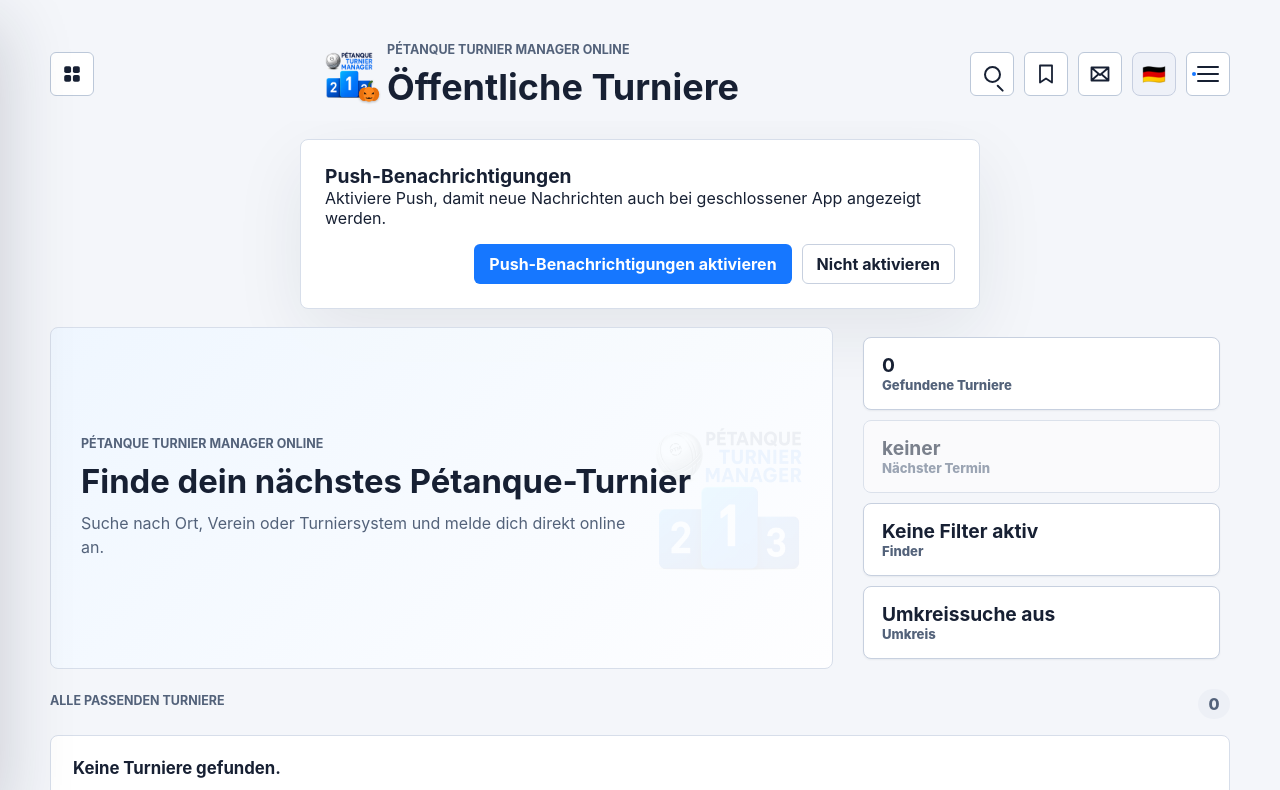
Hamburger-Menü behält den Bereich › zeigt auf „Mein Profil“ von der Startseite das Turniere-Menü mit der Turnierverwaltung
The width and height of the screenshot is (1280, 790).
Click the button named "Menü öffnen".
click(1208, 74)  # box [1186,52,1230,96]
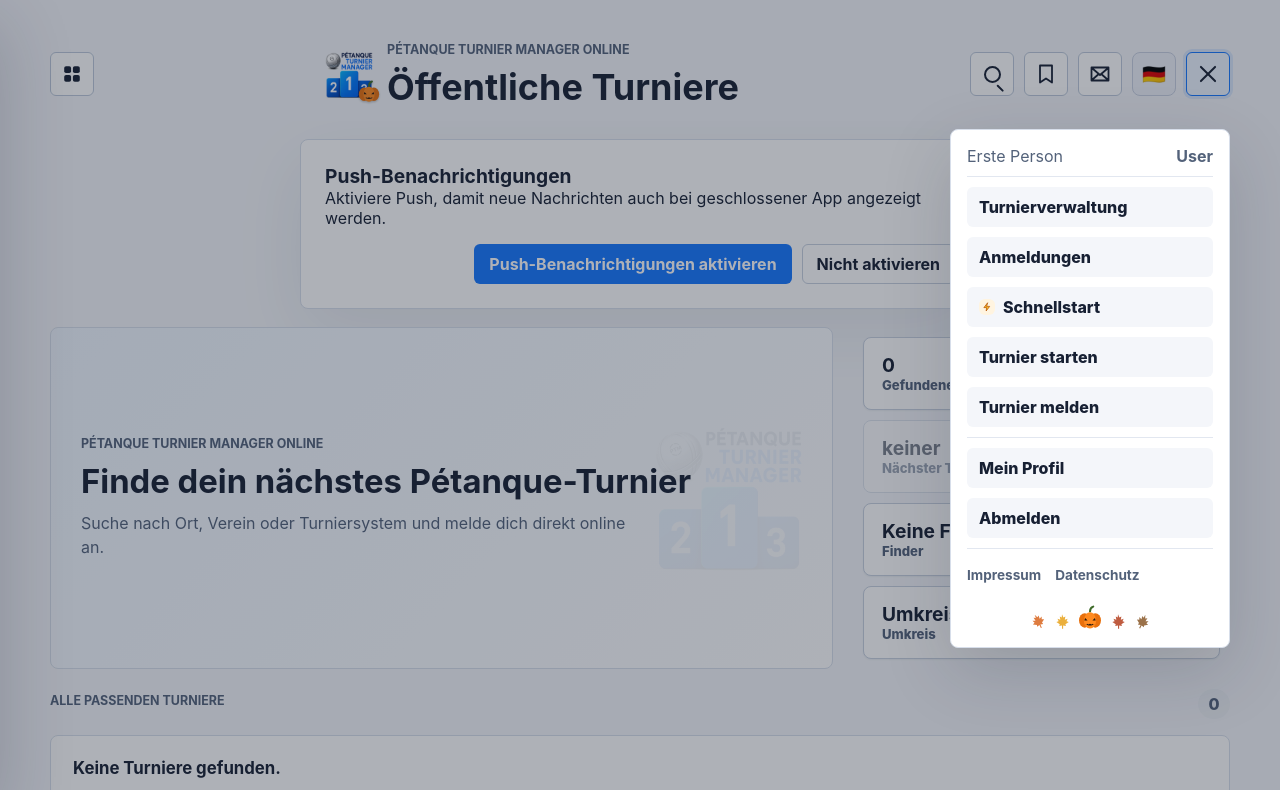
Click the button "Mein Profil".
click(1090, 468)  # box [967,448,1213,488]
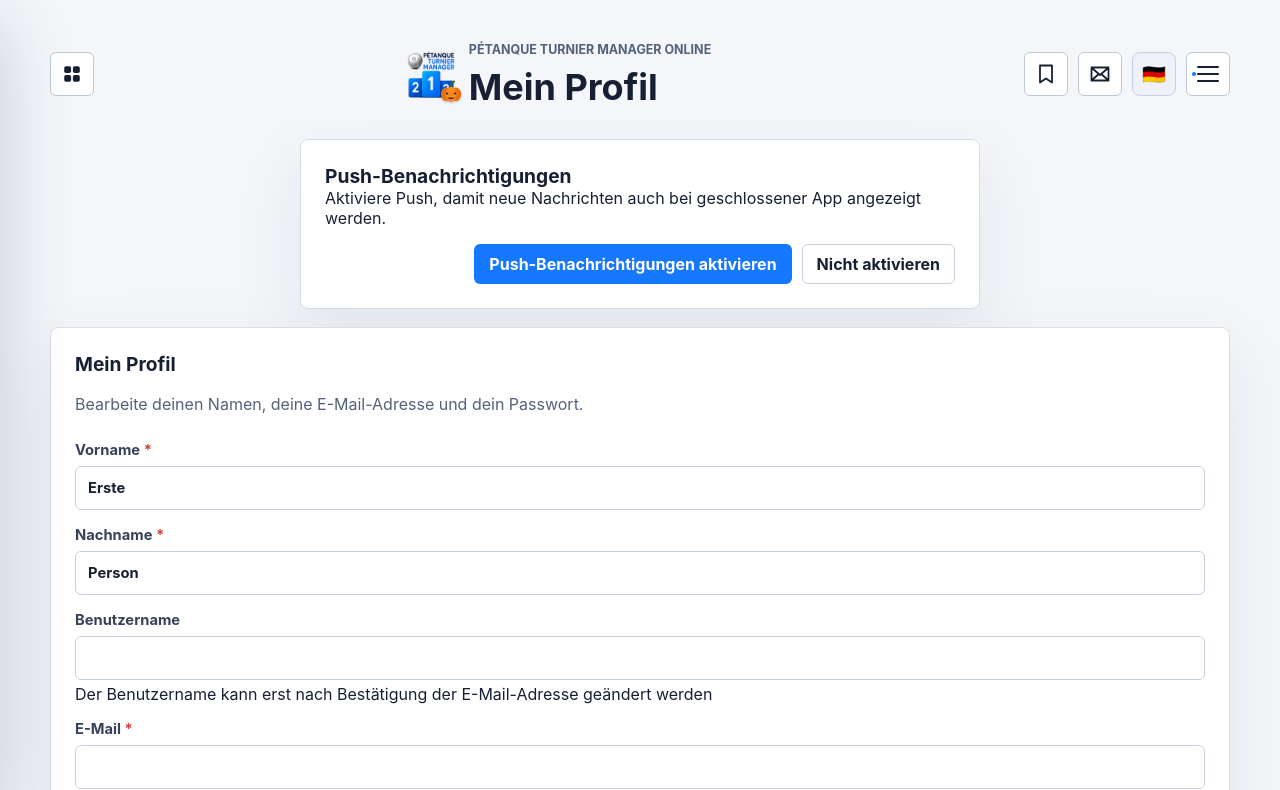
Result: the 1st heading "Mein Profil" is shown at [469,65,658,109]
Click the button named "Menü öffnen".
click(1208, 74)  # box [1186,52,1230,96]
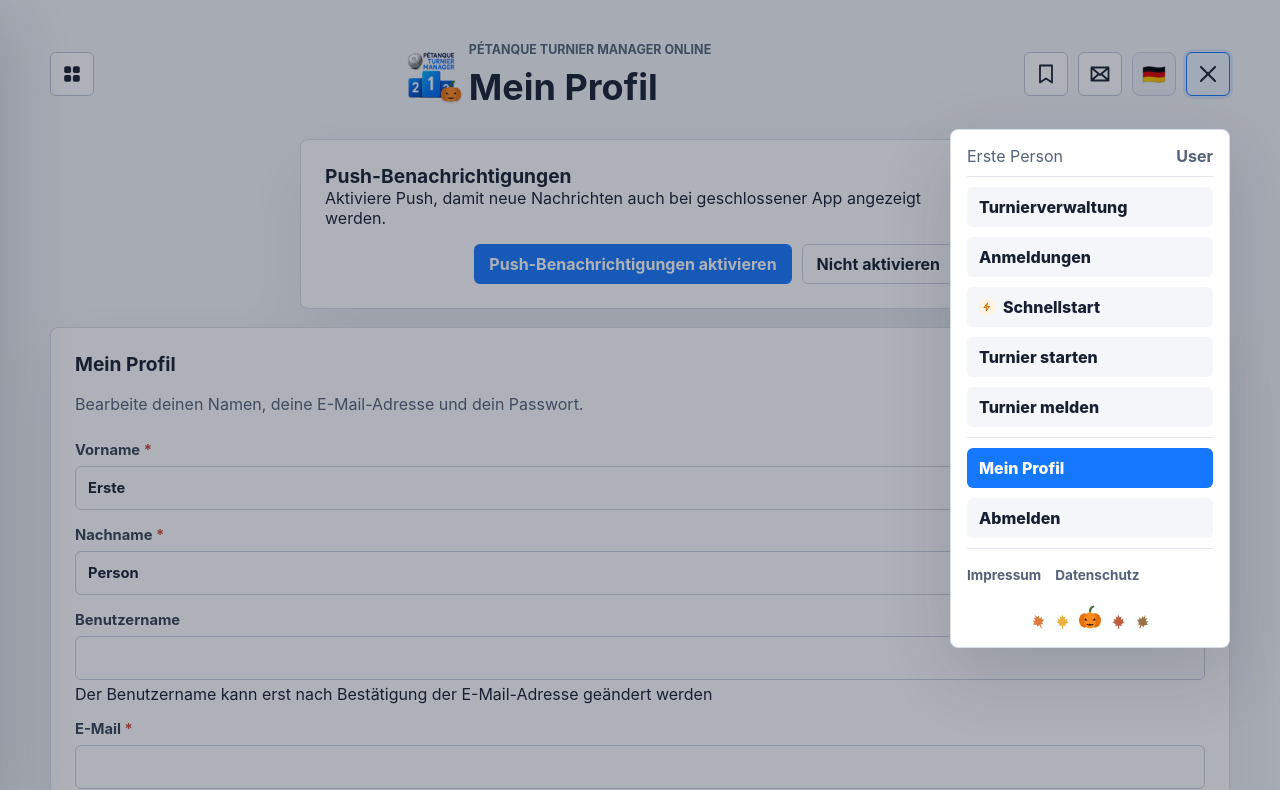
Result: the button "Turnierverwaltung" is shown at [967,187,1213,227]
